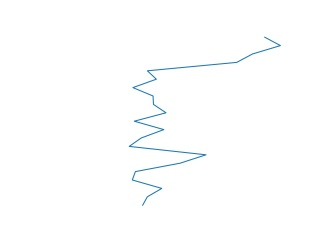crevasseRiverChannelBar: (124, 34, 285, 208)
